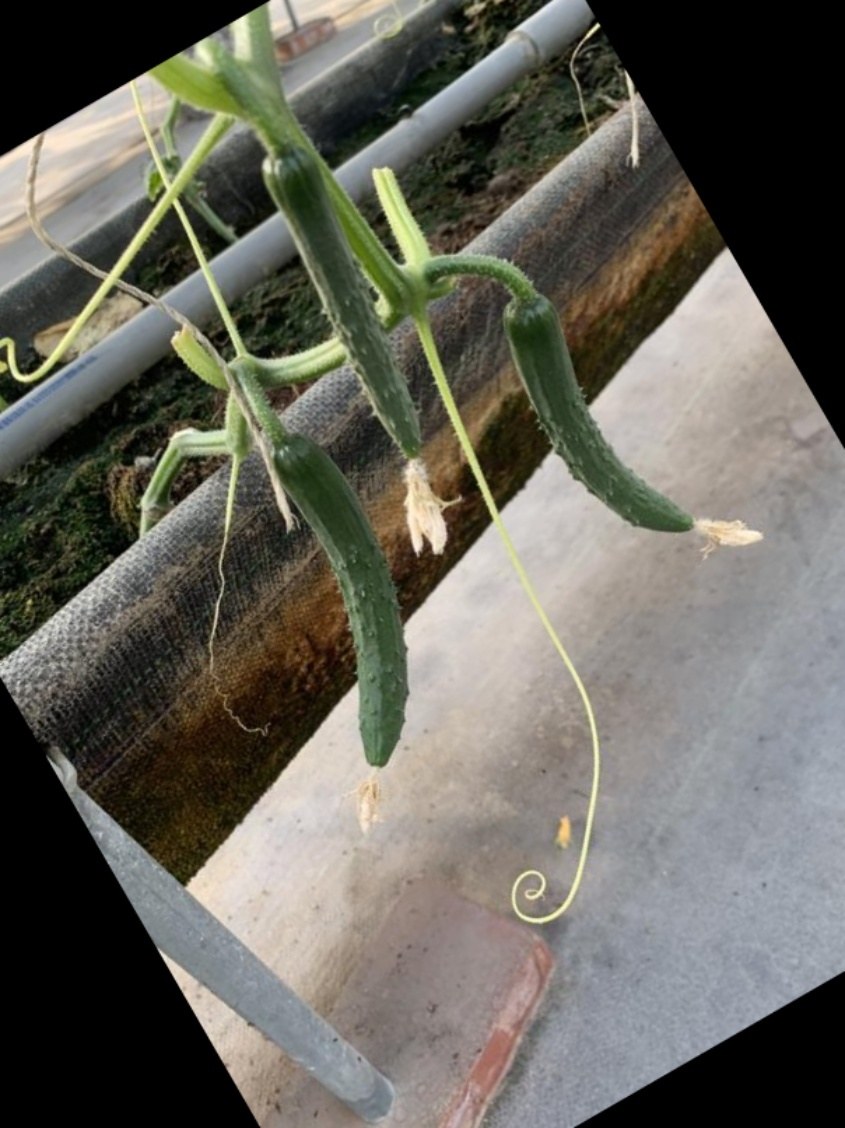mature: (272, 423, 421, 808)
